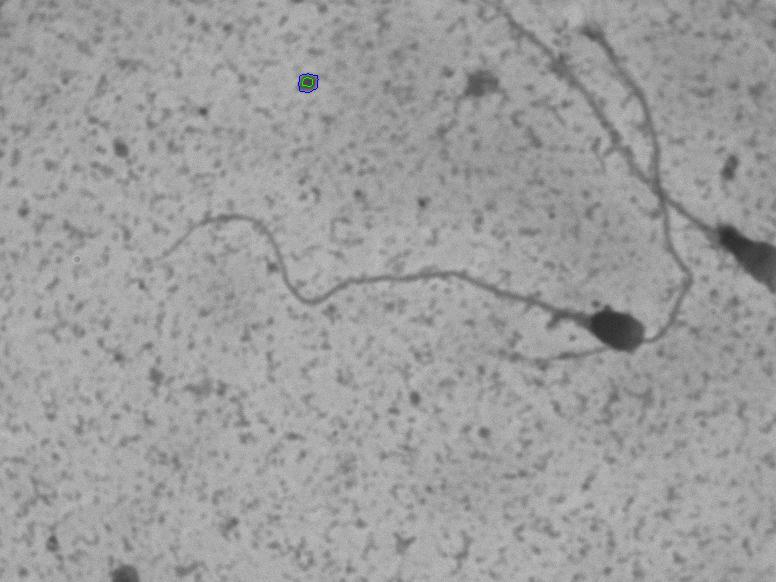Normal: (146, 195, 649, 366)
